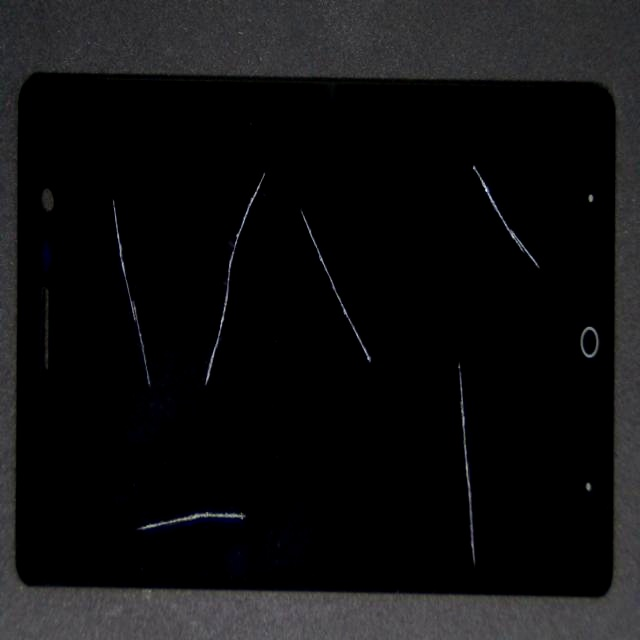scratch: (107, 5, 477, 410), (189, 28, 640, 324), (26, 0, 172, 388)
